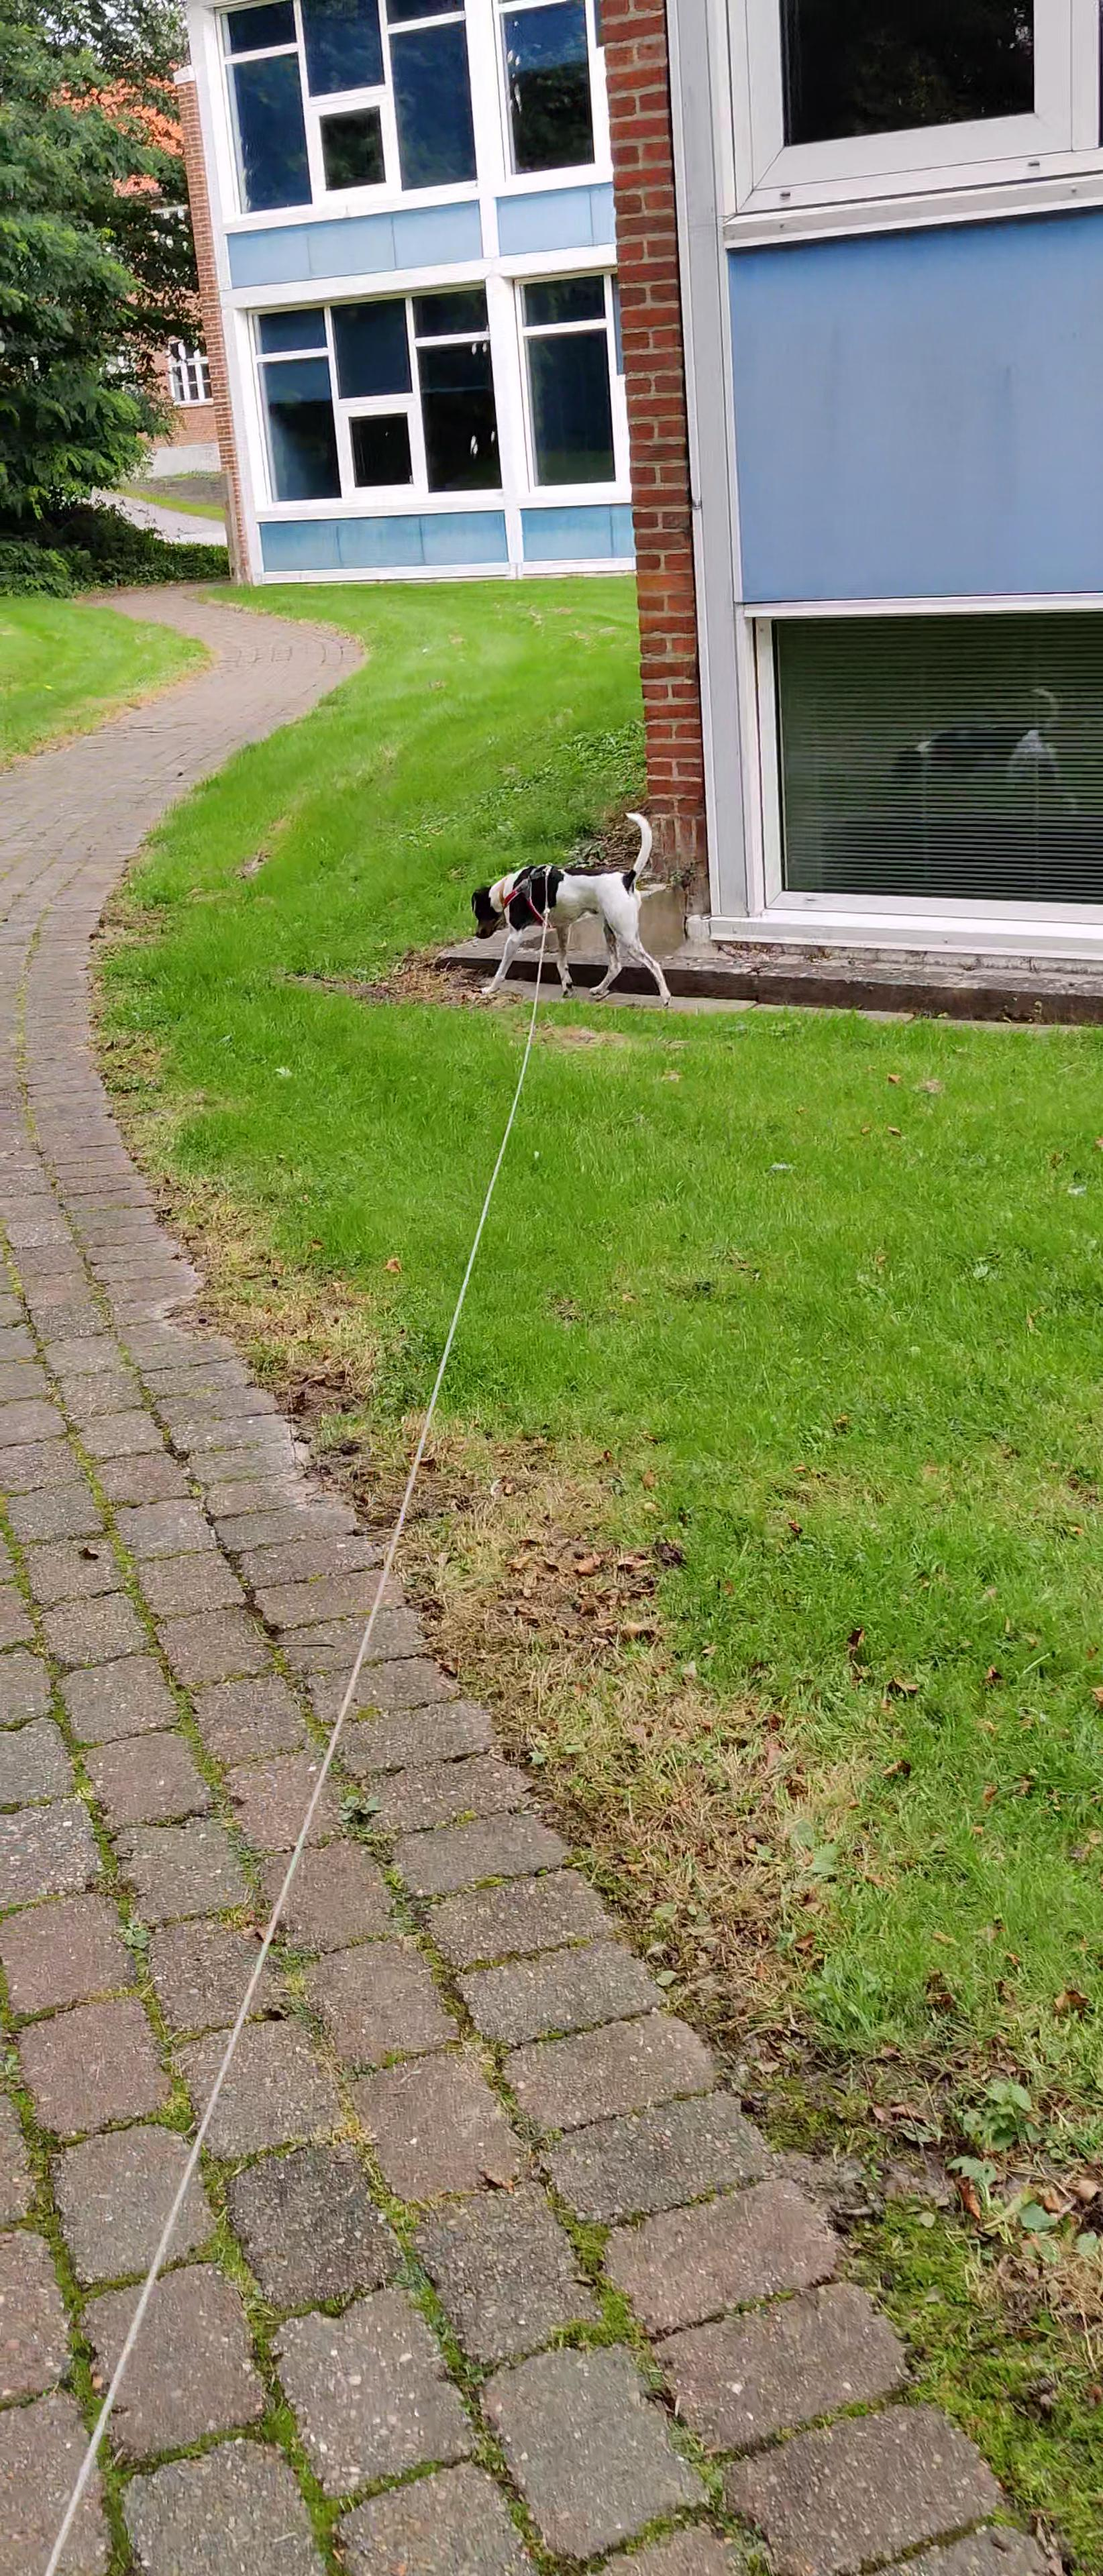Dog: (457, 802, 674, 1010)
